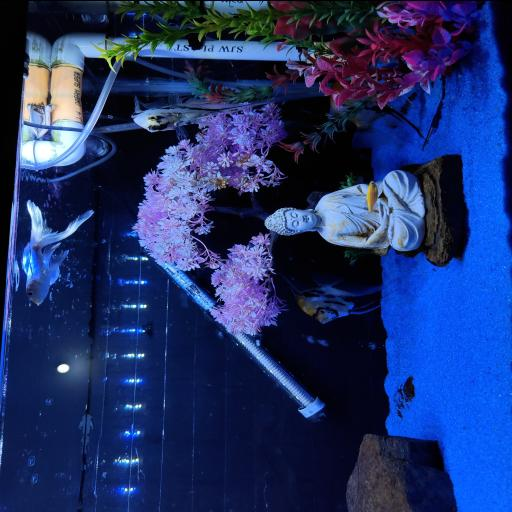Fish: (22, 200, 93, 304), (132, 96, 251, 131), (293, 278, 384, 322), (349, 93, 422, 147), (349, 106, 395, 147), (367, 180, 378, 211)
